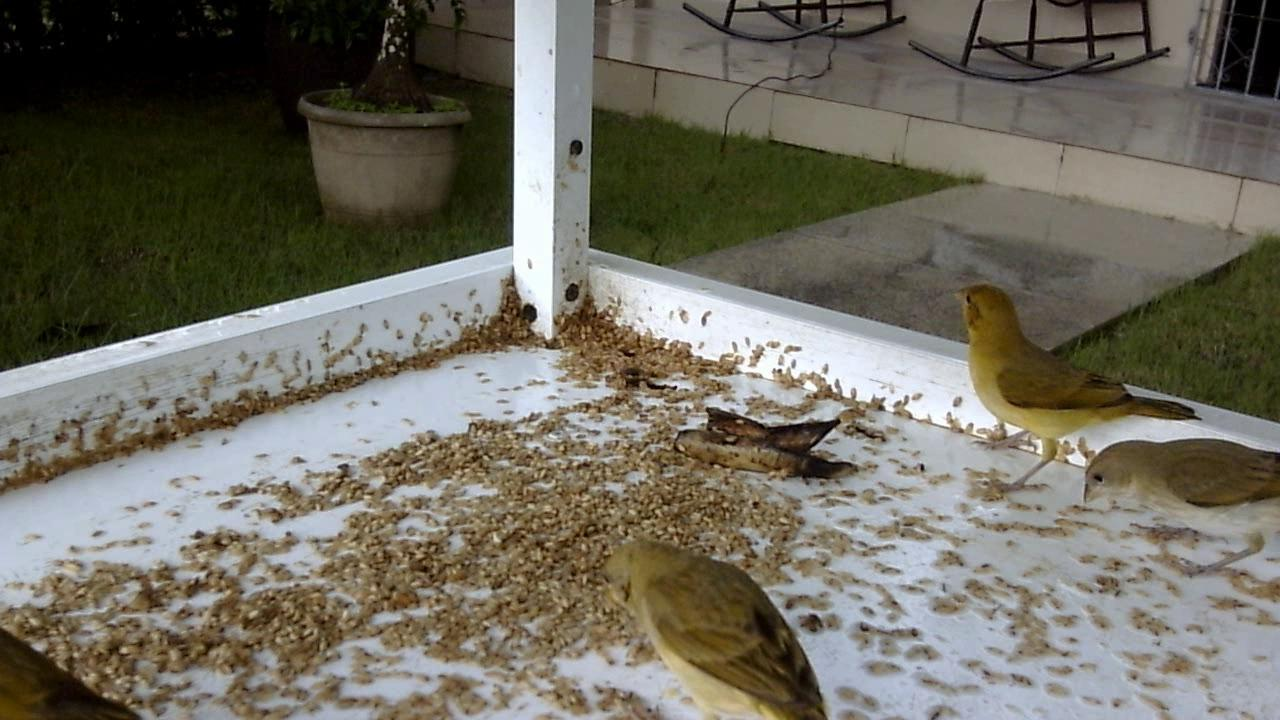canario_do_amazonas: (945, 266, 1212, 505), (600, 532, 829, 715), (1078, 425, 1278, 593)
